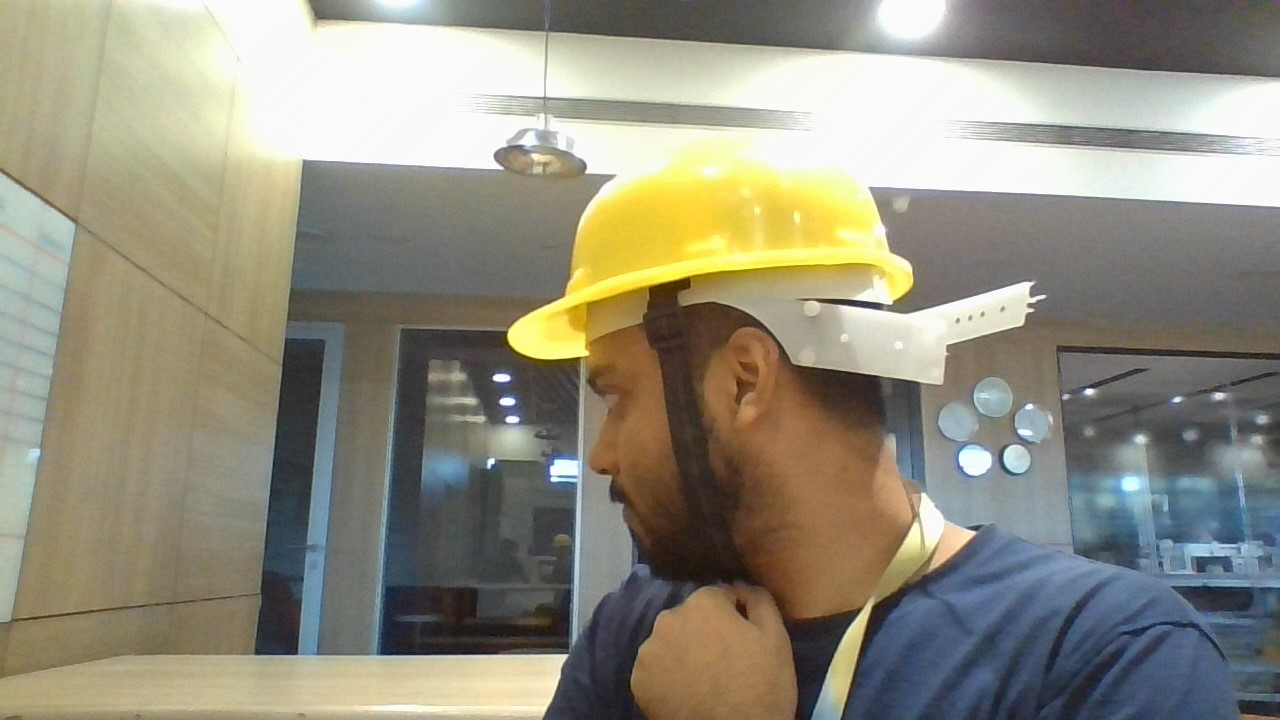Person_wearing_helmet: (487, 121, 964, 435)
